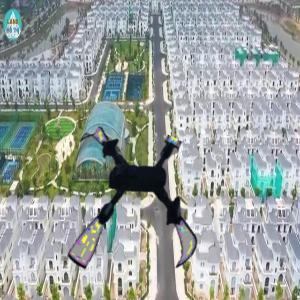drone: (53, 127, 212, 286)
